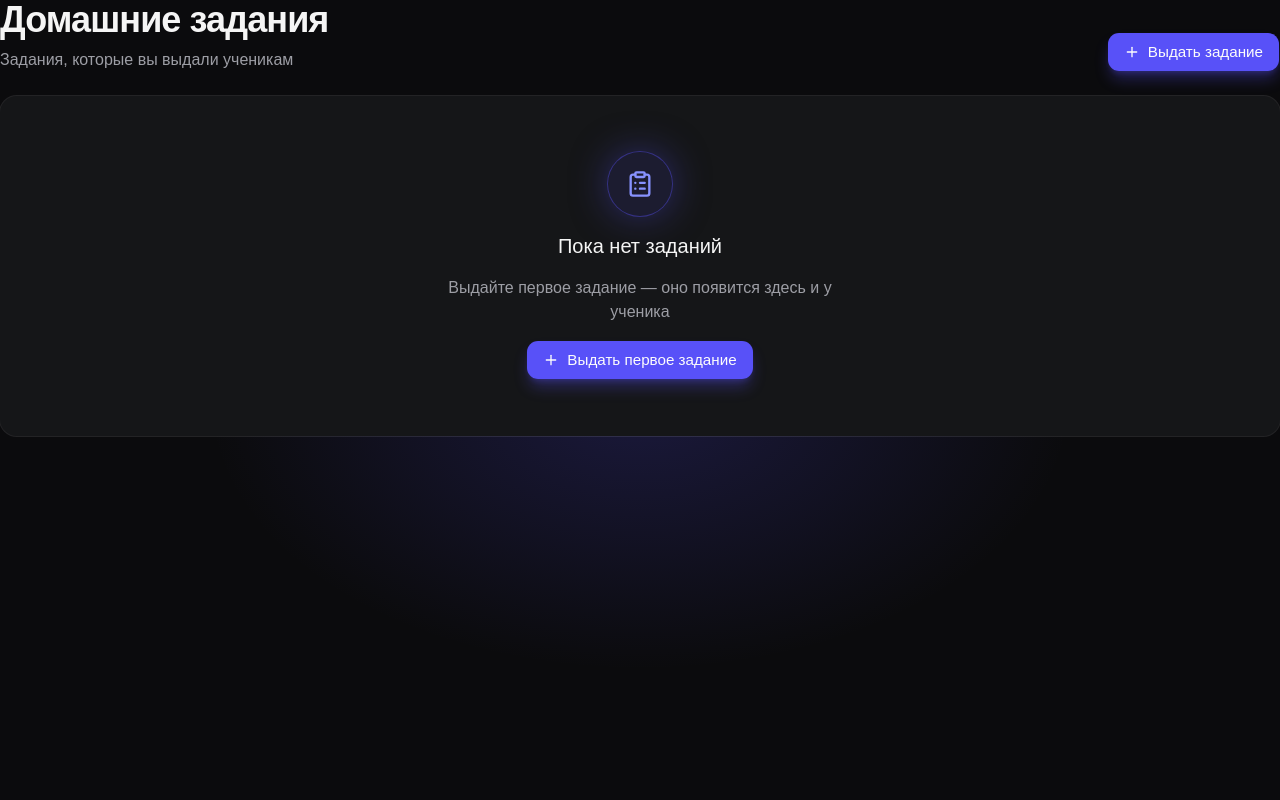
Диалог «Новое домашнее задание» › закрывается клавишей Escape и крестиком; при повторном открытии форма пустая
Click the button "Выдать задание": (1193, 52) [1107,32,1279,72]
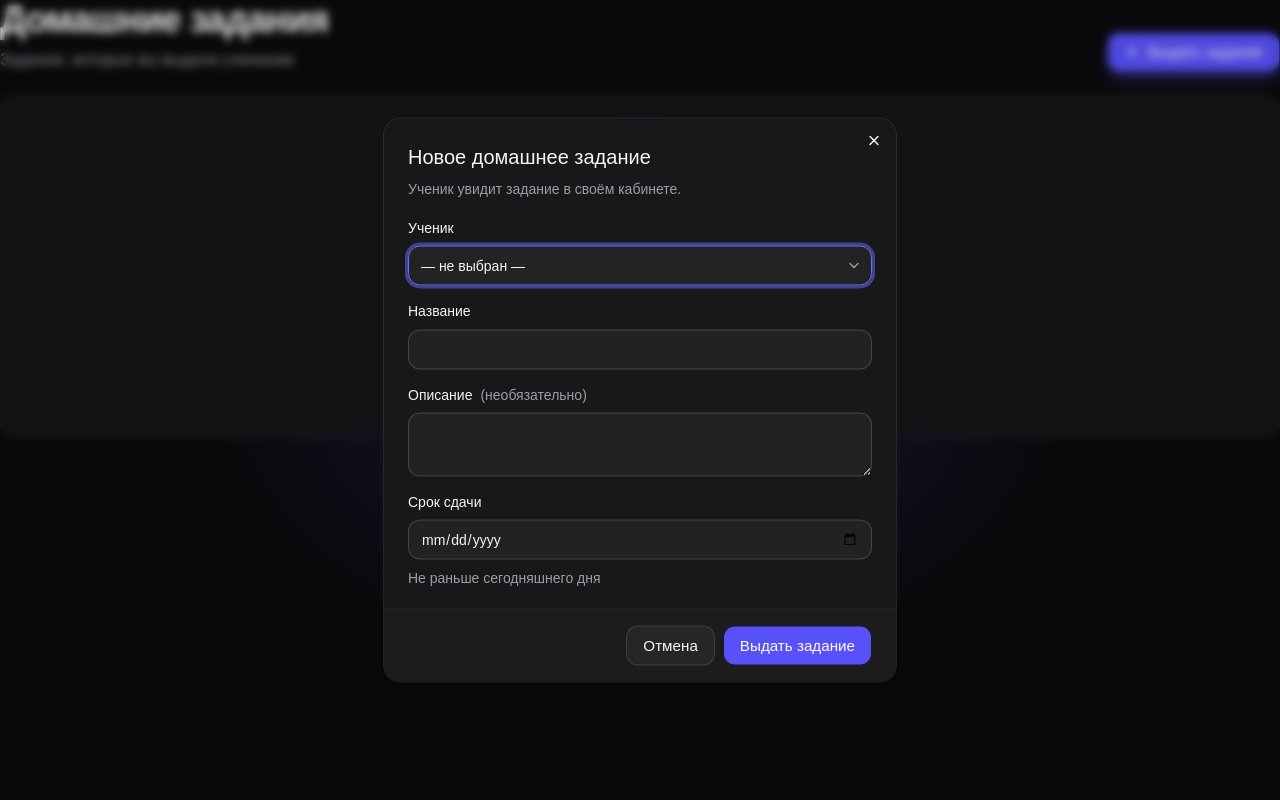
In the field labelled "Название": (640, 349) [408,329,872,369], type "Черновик"
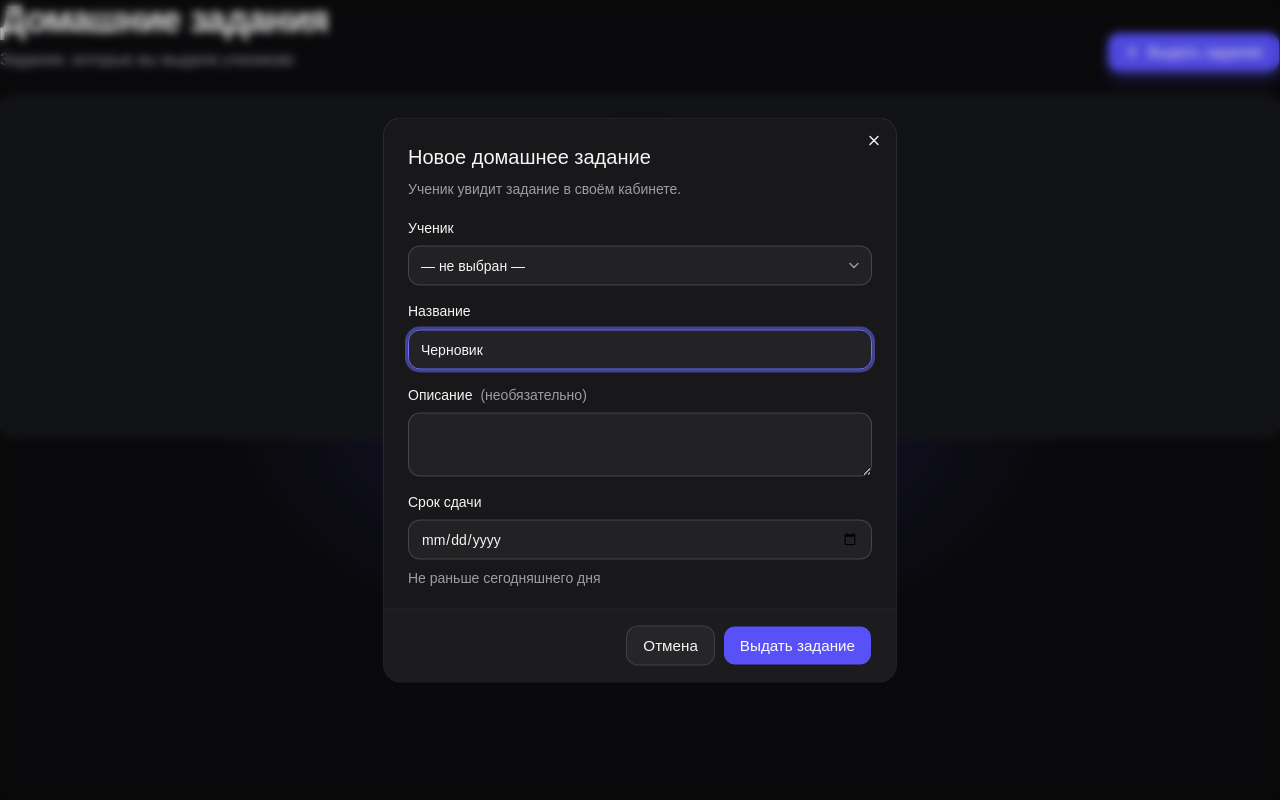
Press Escape
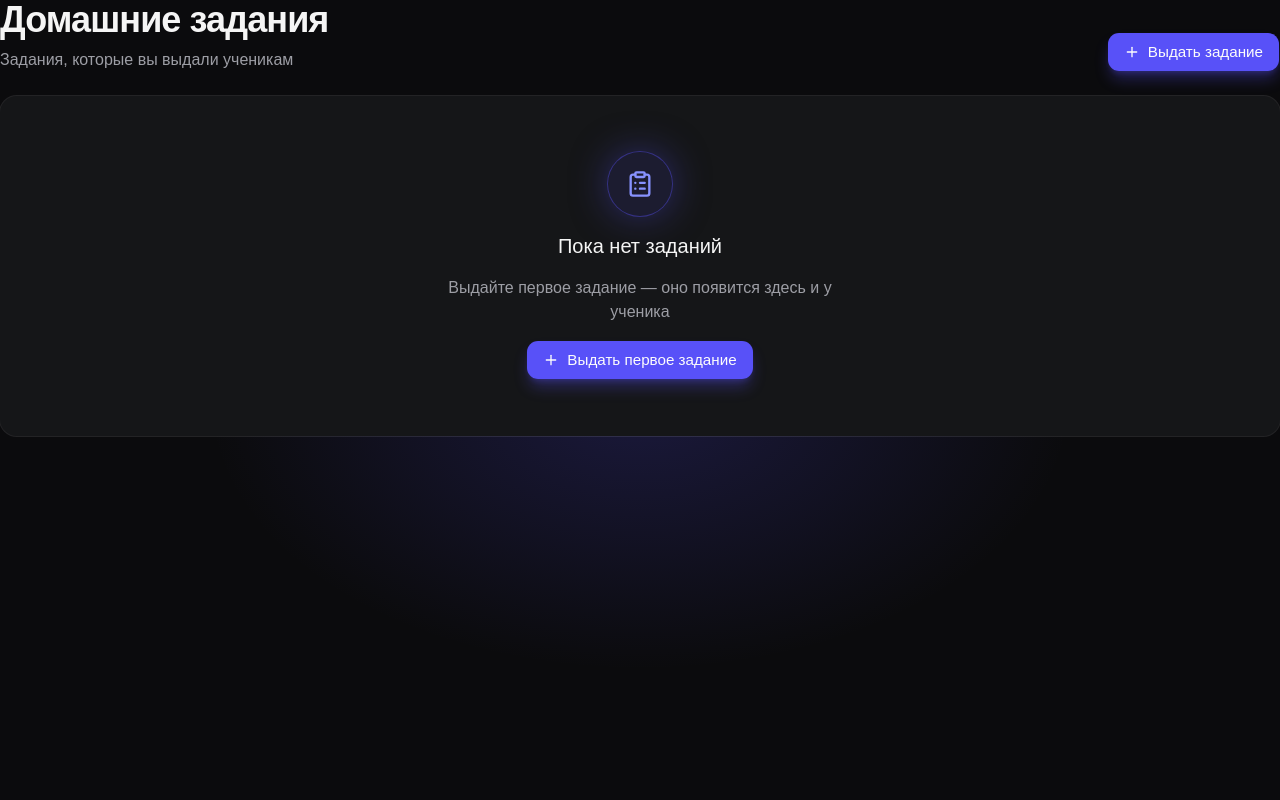
Result: the dialog is gone
Click the button "Выдать задание": (1193, 52) [1107,32,1279,72]
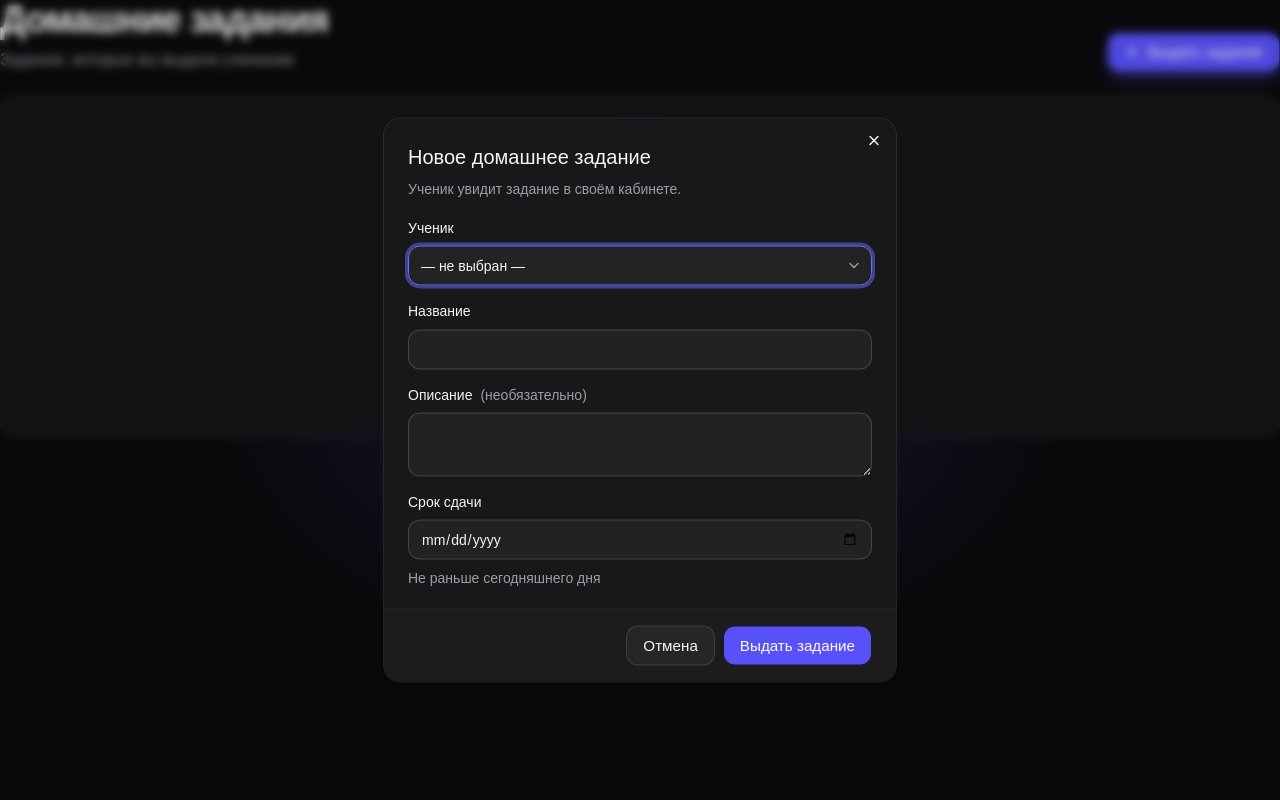
Result: the field labelled "Название" is empty at [408,329,872,369]
Click the button named "Закрыть": (874, 140) [860,126,888,154]
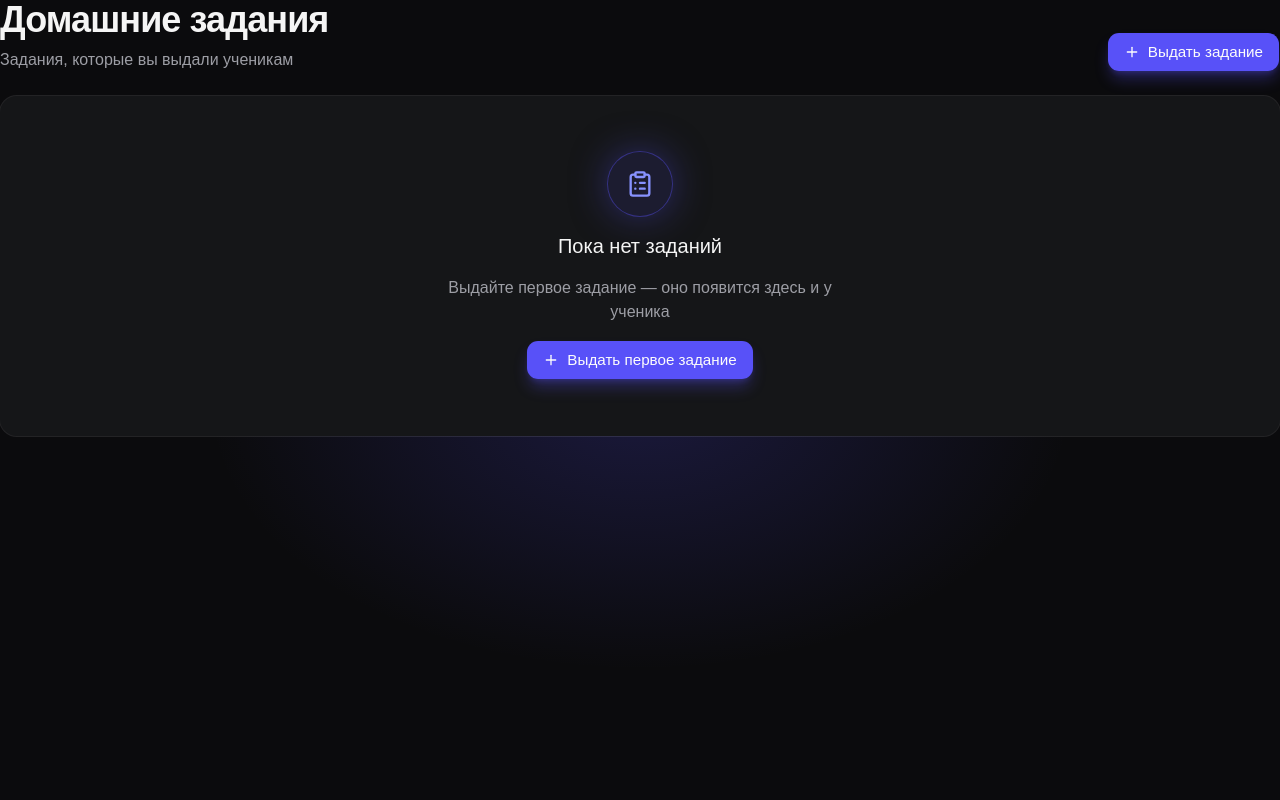
Result: the dialog is gone
